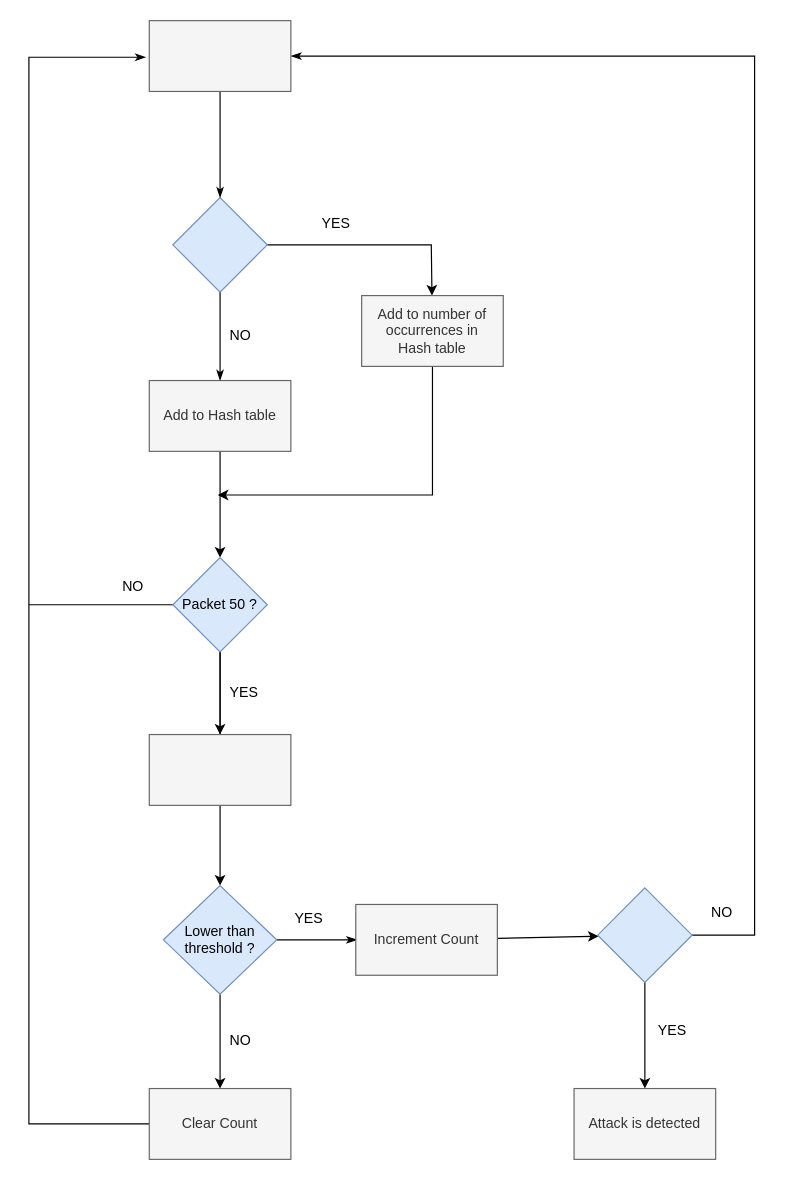
This 785x1180 diagram has some shape labels left out. Each missing label, with the box of its shape:
Calculate the Entropy of the Windows: (148, 733, 291, 805)
Count is 5 ?: (596, 887, 692, 982)
Dest IP Exists ?: (172, 196, 267, 292)
New Packet In: (148, 19, 291, 91)
